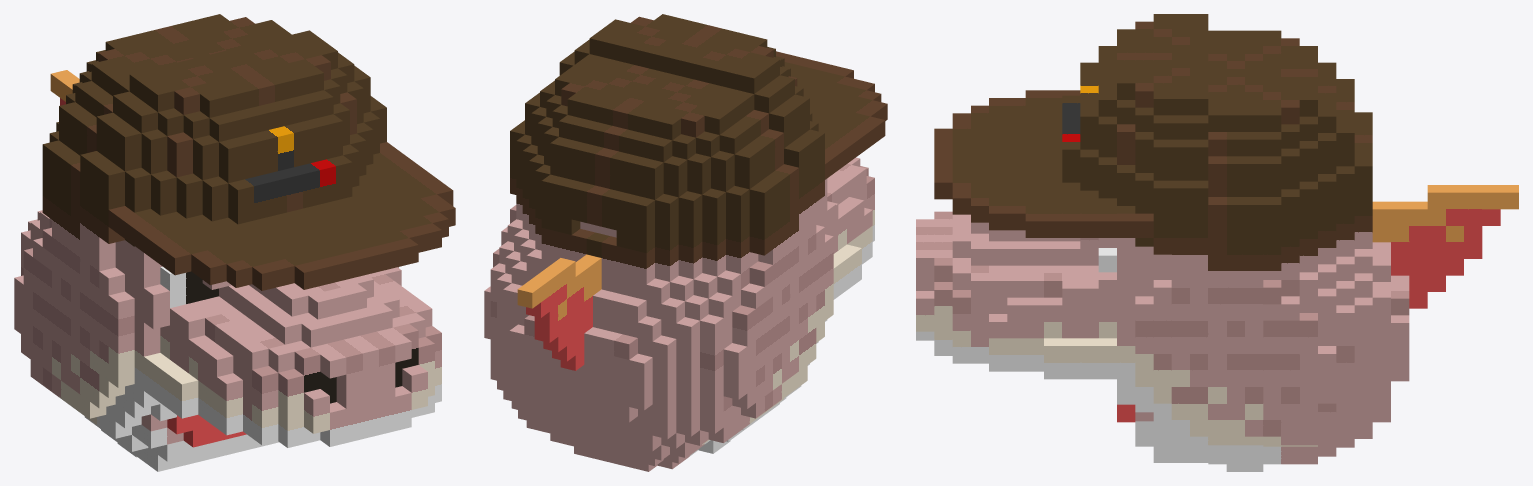
The model's file is wsb hat_3d glasses.gltf.
3 renders of one model, left to right at view 1: azimuth 30°, elevation 25°; view 2: azimuth 150°, elevation 25°; view 3: azimuth 270°, elevation 25°, orthographic. The views are drawn at different scales.
Visible parts, largest first — view 1: C60_H_WSB_CoolDude_3DG_RBShade-Mesh; view 2: C60_H_WSB_CoolDude_3DG_RBShade-Mesh; view 3: C60_H_WSB_CoolDude_3DG_RBShade-Mesh.
Boxes of the visible parts, x1=… form: C60_H_WSB_CoolDude_3DG_RBShade-Mesh: x1=14, y1=14, x2=455, y2=471; C60_H_WSB_CoolDude_3DG_RBShade-Mesh: x1=484, y1=14, x2=887, y2=471; C60_H_WSB_CoolDude_3DG_RBShade-Mesh: x1=916, y1=14, x2=1518, y2=471.
Size of the model in its own units: 17 by 23 by 33.
1 material, 1 textured.
